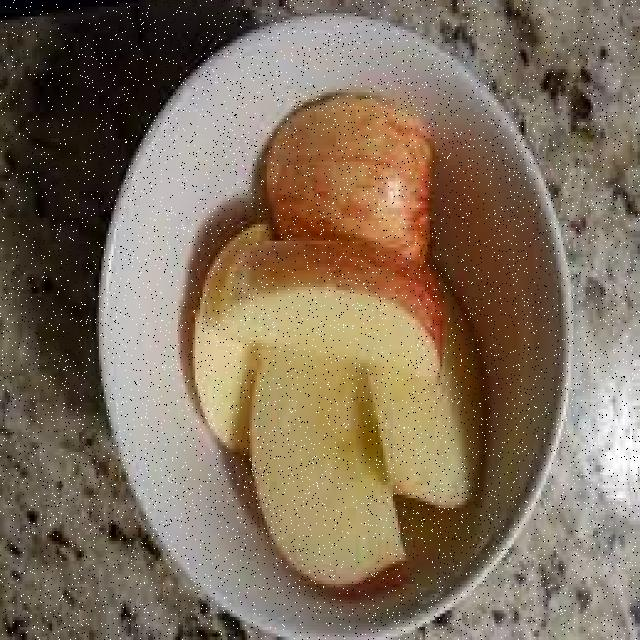Apple: (249, 364, 401, 595), (253, 95, 439, 265), (217, 249, 444, 380), (378, 273, 478, 508), (190, 222, 270, 459)
